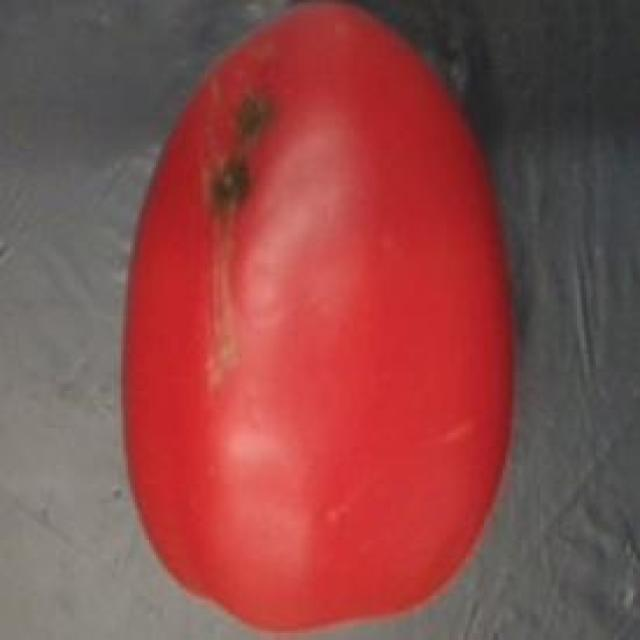overripe tomato: (110, 2, 530, 640)
